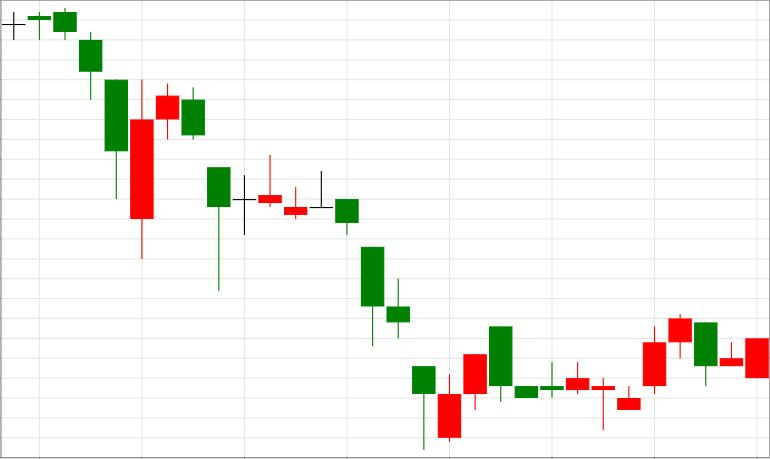bullish_engulfing_rise: (28, 8, 154, 259)
hammer_rise: (310, 170, 436, 449)
